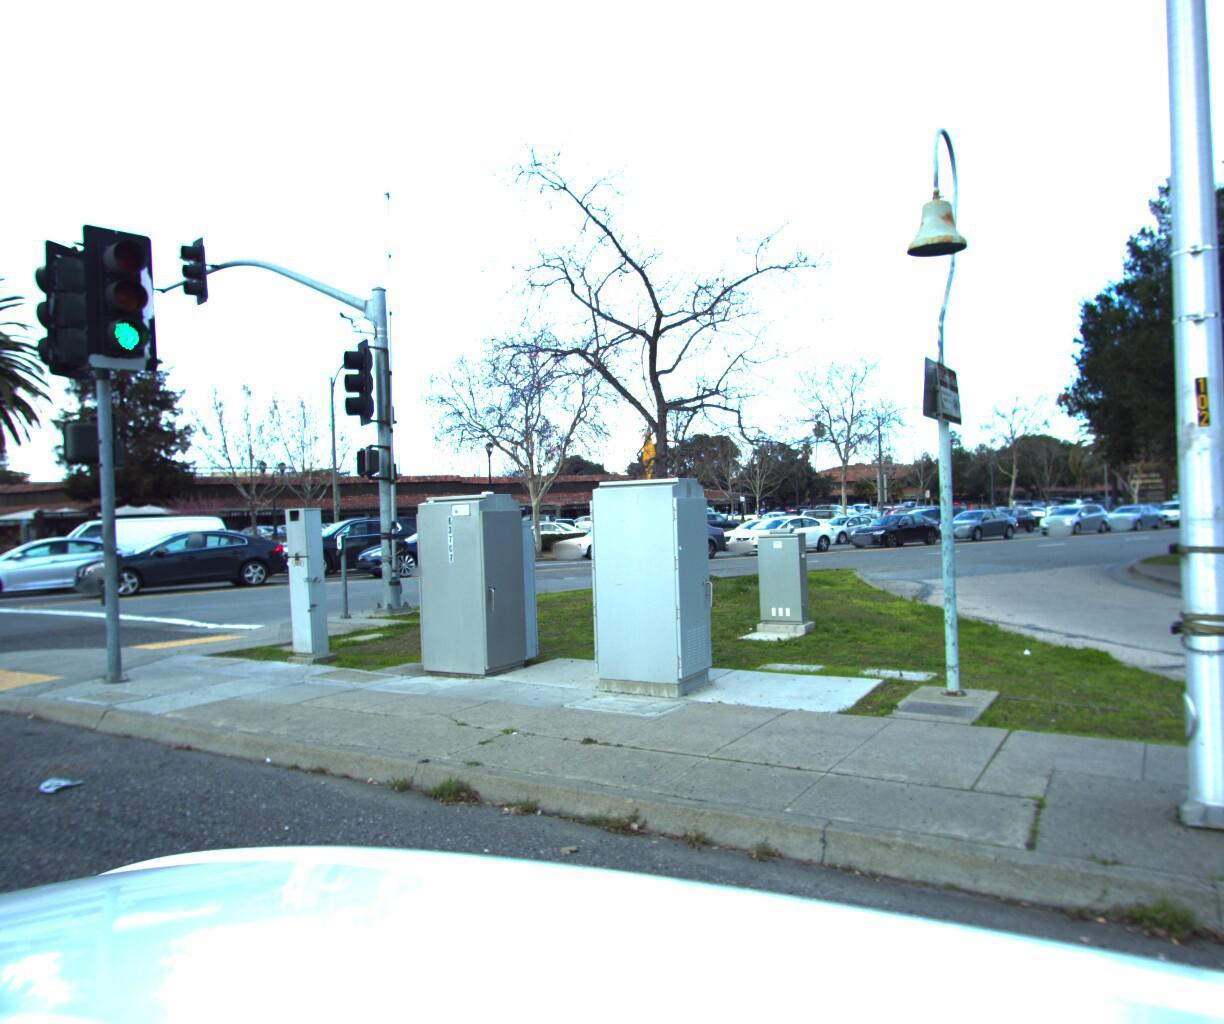car: (18, 506, 244, 594), (68, 520, 298, 597), (260, 507, 445, 580), (341, 514, 533, 577), (0, 527, 161, 600), (589, 507, 734, 560), (715, 504, 844, 552), (539, 515, 675, 559), (839, 503, 948, 543), (703, 509, 807, 547), (925, 499, 1024, 537), (799, 505, 888, 539), (1030, 494, 1113, 530), (1138, 489, 1211, 523), (798, 498, 872, 530), (1098, 494, 1173, 525), (511, 513, 595, 539), (970, 499, 1043, 528), (940, 490, 1020, 515), (883, 497, 948, 524), (1005, 495, 1066, 517), (1186, 490, 1224, 518)
